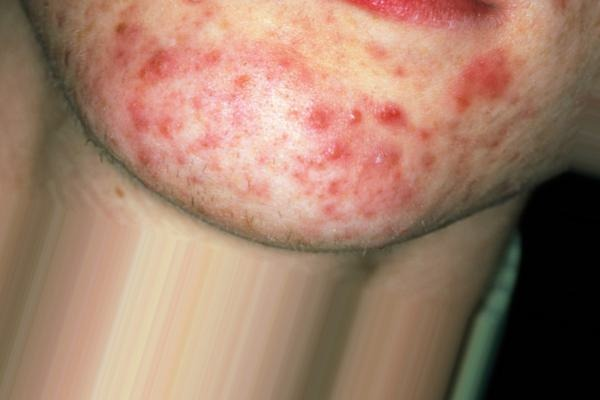Acne: (66, 5, 519, 243)
